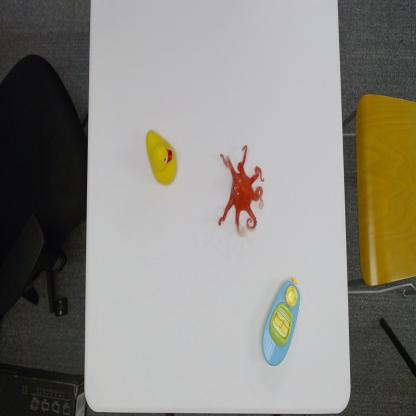Boat: (260, 275, 302, 369)
Duck: (145, 127, 179, 187)
Octopus: (218, 144, 266, 239)
